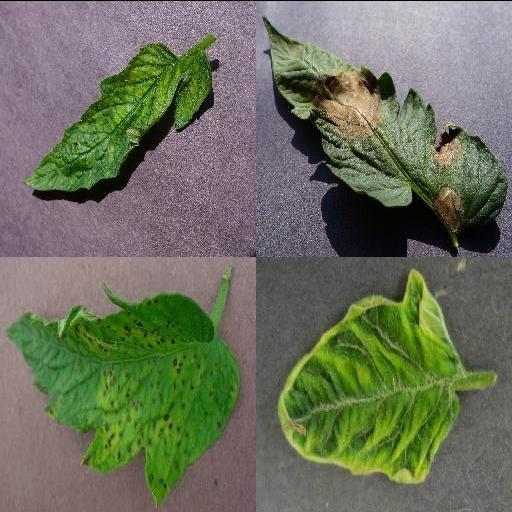Late Blight: (260, 11, 512, 231)
Mosaic Virus: (22, 40, 212, 192)
Septoria: (5, 294, 241, 504)
Yellow Leaf Curl Virus: (278, 268, 466, 484)
